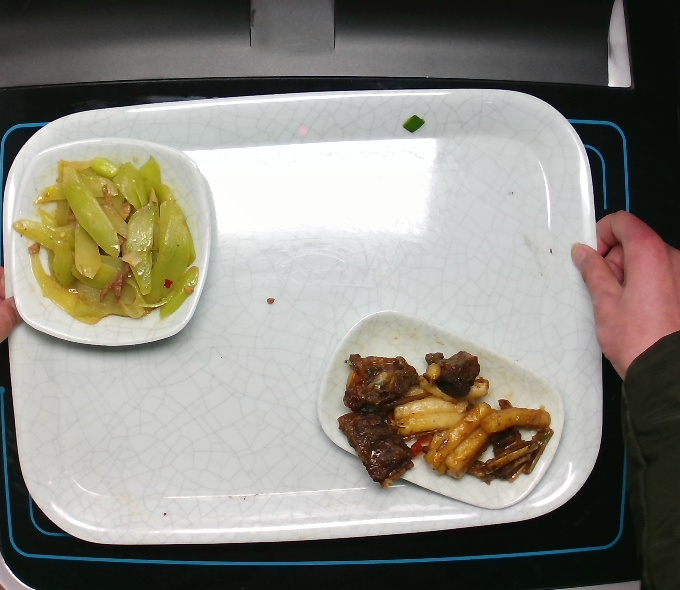wcq-NianGaoZaiPai: (325, 339, 557, 498)
wcq-WoSun: (8, 146, 203, 325)
